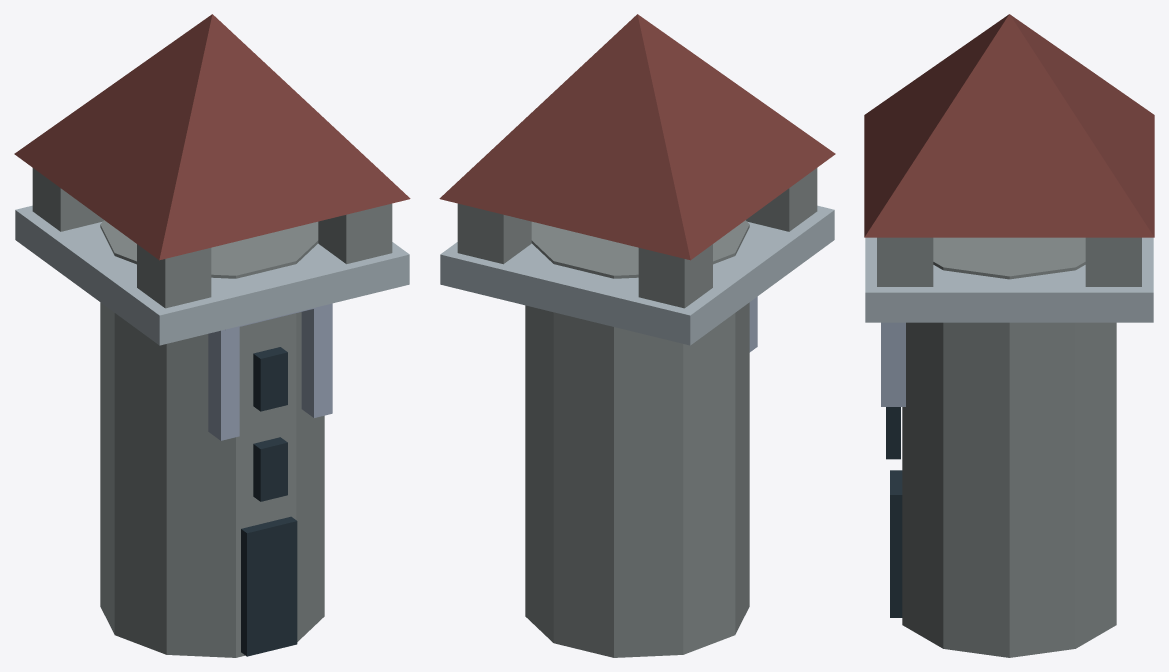
Rendered from tower.obj.
3 renders of one model, left to right at view 1: azimuth 30°, elevation 25°; view 2: azimuth 150°, elevation 25°; view 3: azimuth 270°, elevation 25°, orthographic.
Parts seen in each view (by area): view 1: tower; view 2: tower; view 3: tower.
Boxes of the visible parts, x1,y1,x2,y2 form: tower: (14,14,410,657); tower: (439,14,835,657); tower: (864,14,1154,657).
Bounding box in the file's own units: 1.75 × 3.97 × 1.75.
